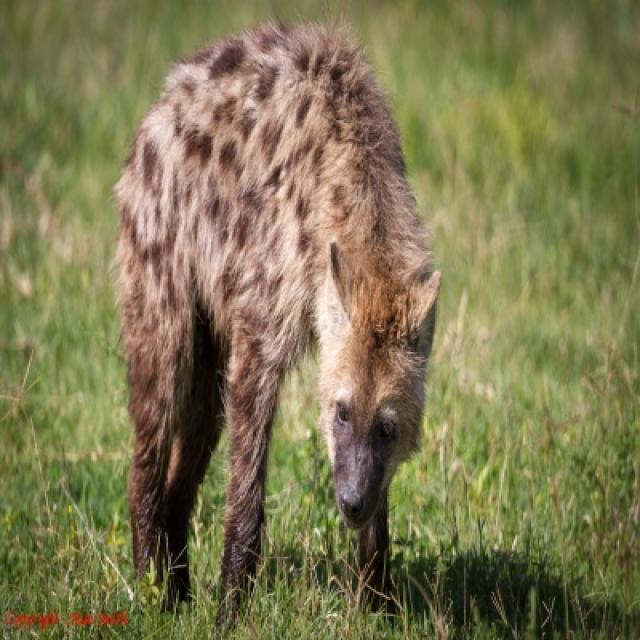hyena: (110, 21, 442, 632)
